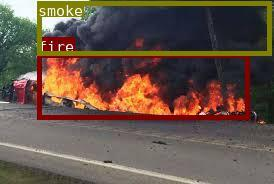fire: (37, 53, 249, 119)
smoke: (36, 0, 271, 54)
